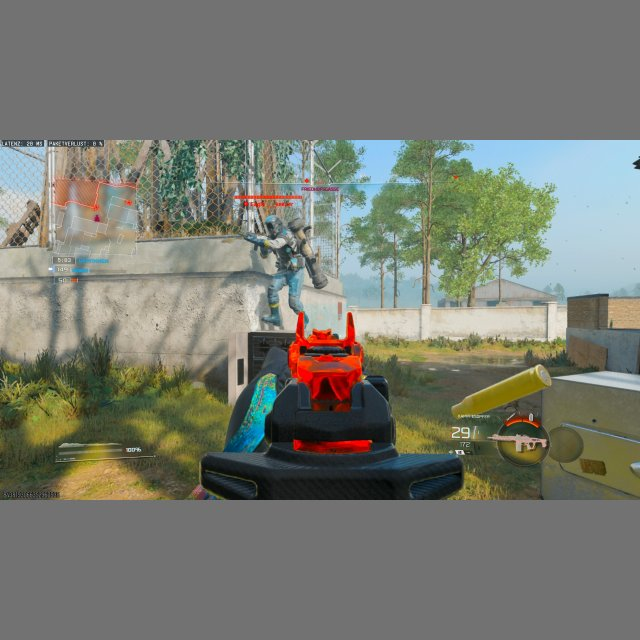head: (264, 215, 283, 237)
player: (246, 215, 312, 334)
